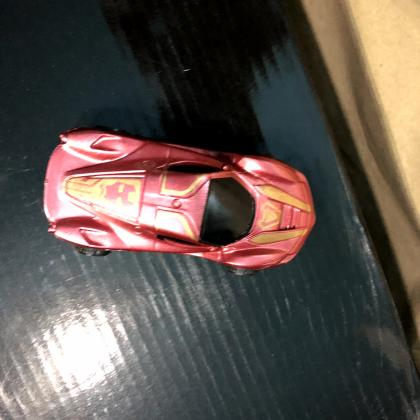Car: (41, 122, 320, 278)
